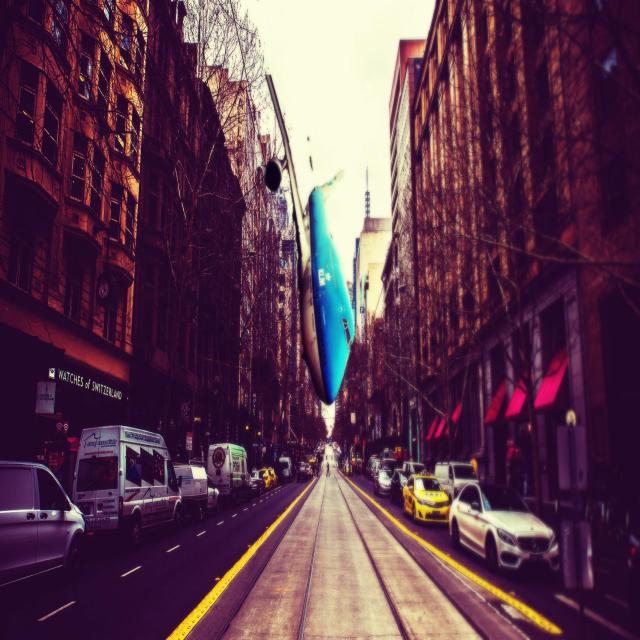airplane: (264, 72, 356, 405)
